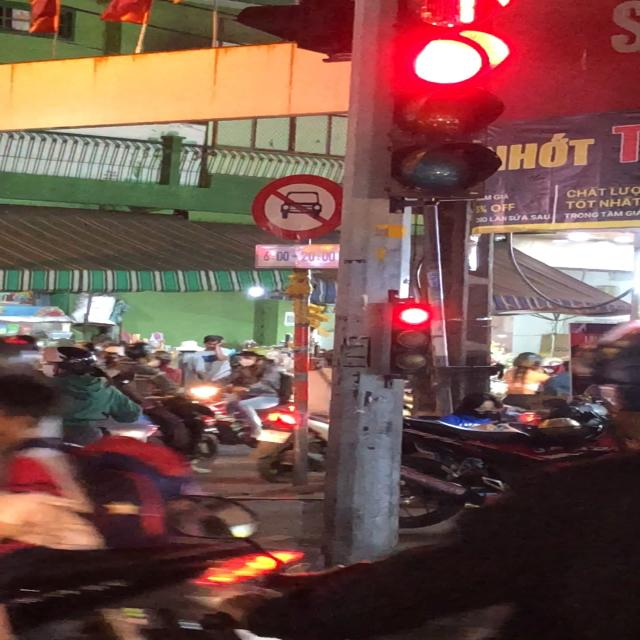Bien bao cam xe oto: (247, 172, 350, 244)
